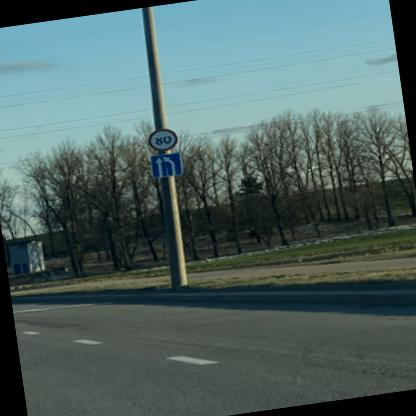speedlimit: (144, 126, 176, 152)
